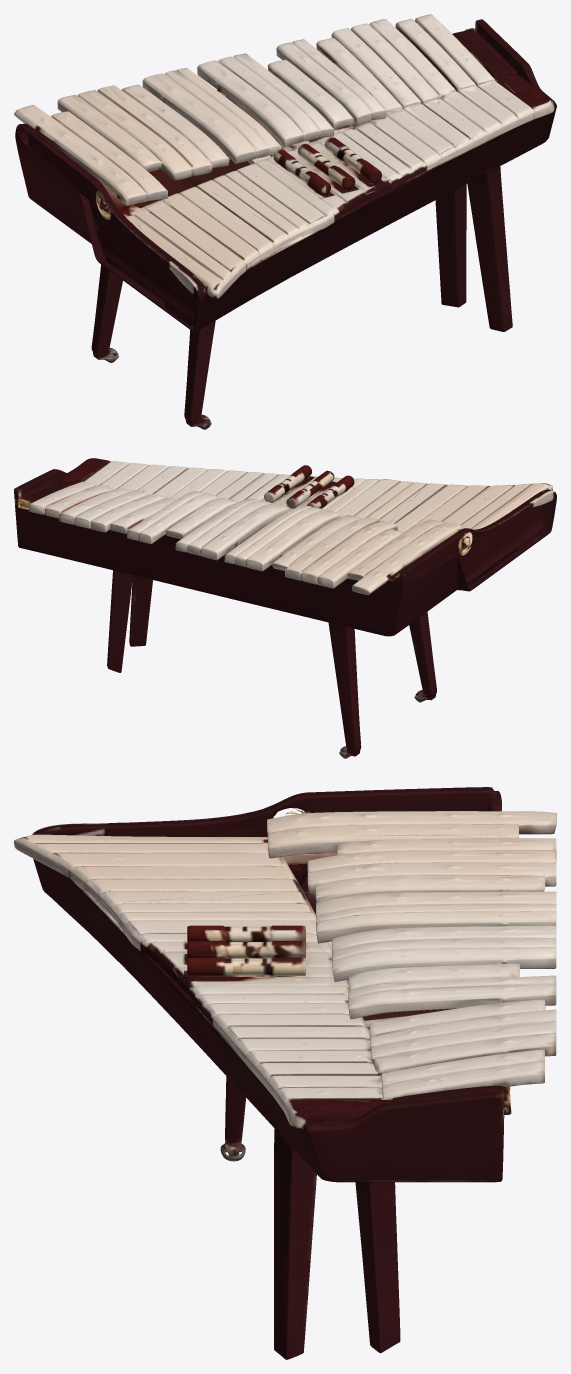
Rendered from sulawesi-utara.glb.
3 renders of one model, top to bottom at view 1: azimuth 30°, elevation 25°; view 2: azimuth 150°, elevation 25°; view 3: azimuth 270°, elevation 25°, orthographic. The views are drawn at different scales.
Visible parts, largest first — view 1: node_0; view 2: node_0; view 3: node_0.
Part boxes in pixels (x1,y1,x2,y2): node_0: [14, 14, 556, 429]; node_0: [14, 458, 556, 758]; node_0: [14, 787, 556, 1359].
Size of the model in its own units: 0.9318 by 0.476 by 0.7278.
Materials: 1 (1 with a texture image).
